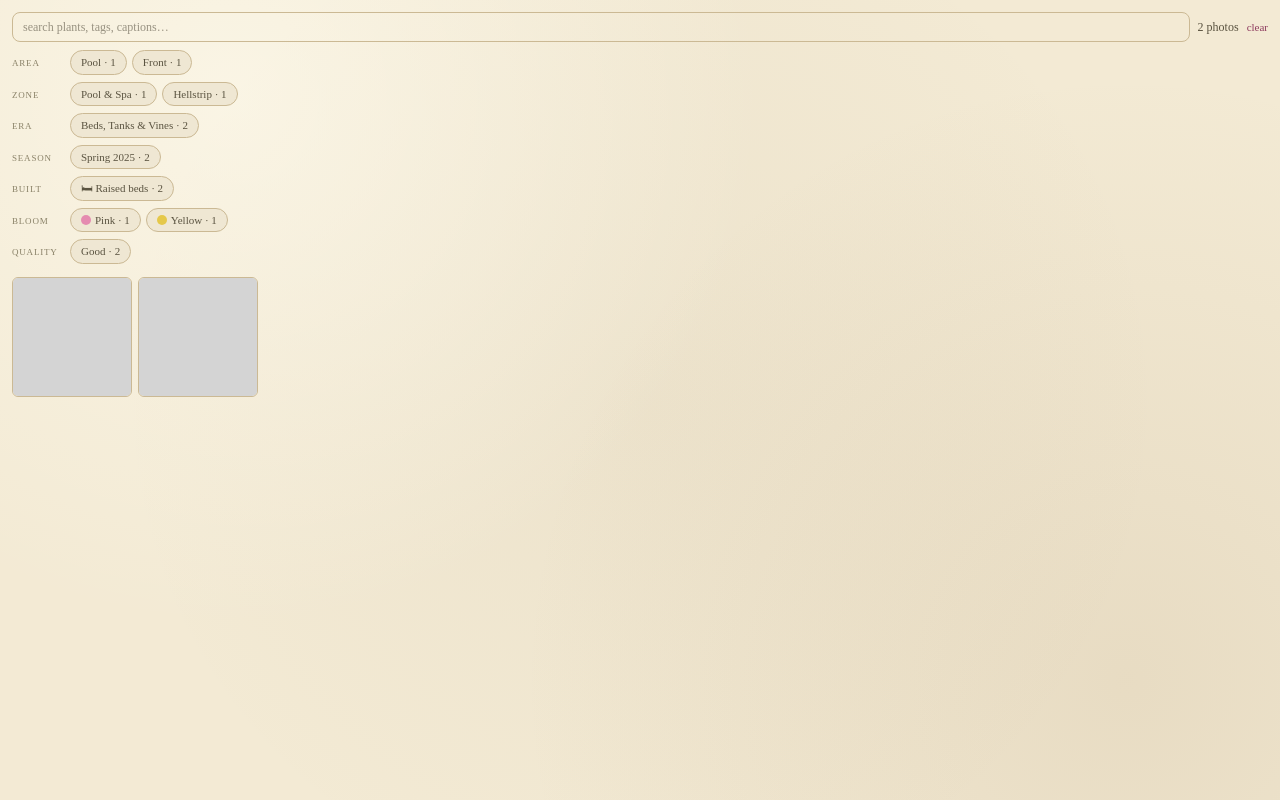
Test case: GalleryBrowser › clears filters
Click the button "Front · 1" at [162, 62], box [132,50,192,74]
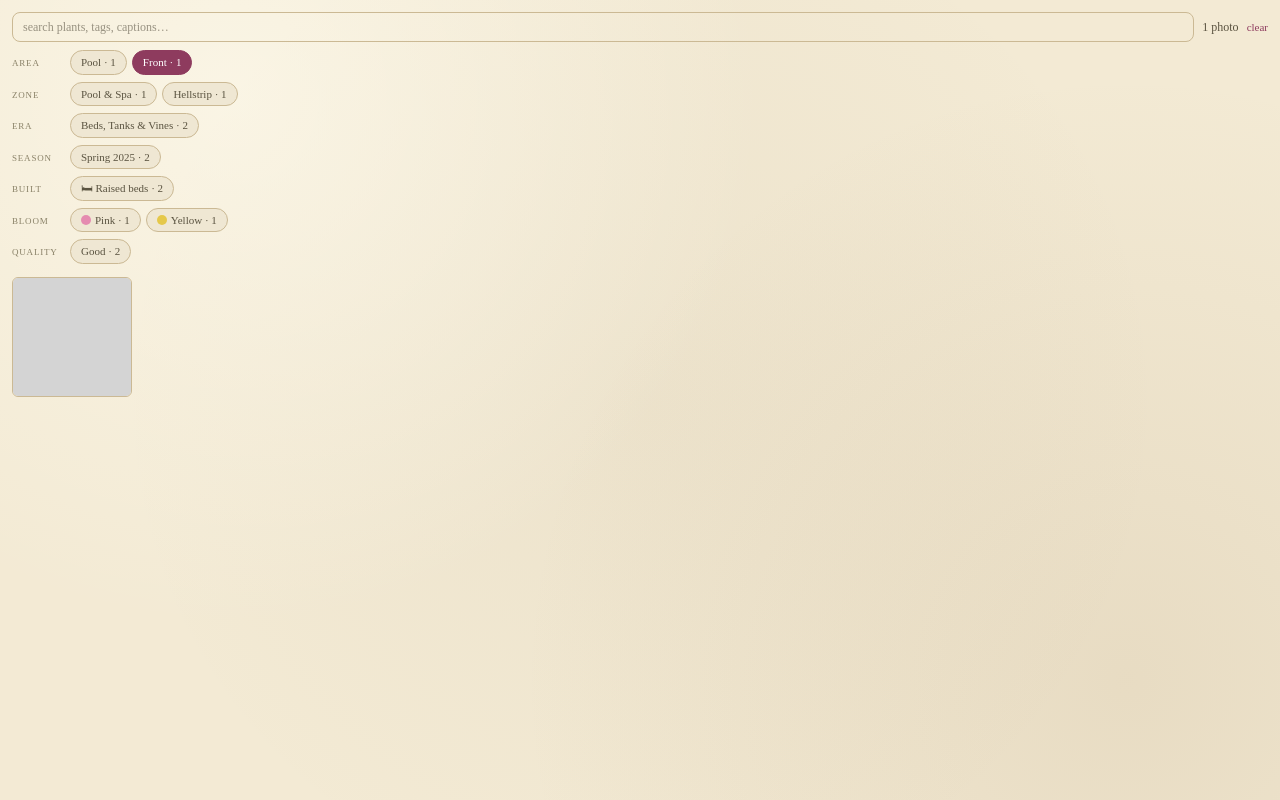
Click the button "clear" at [1257, 27], box [1247,19,1268,35]
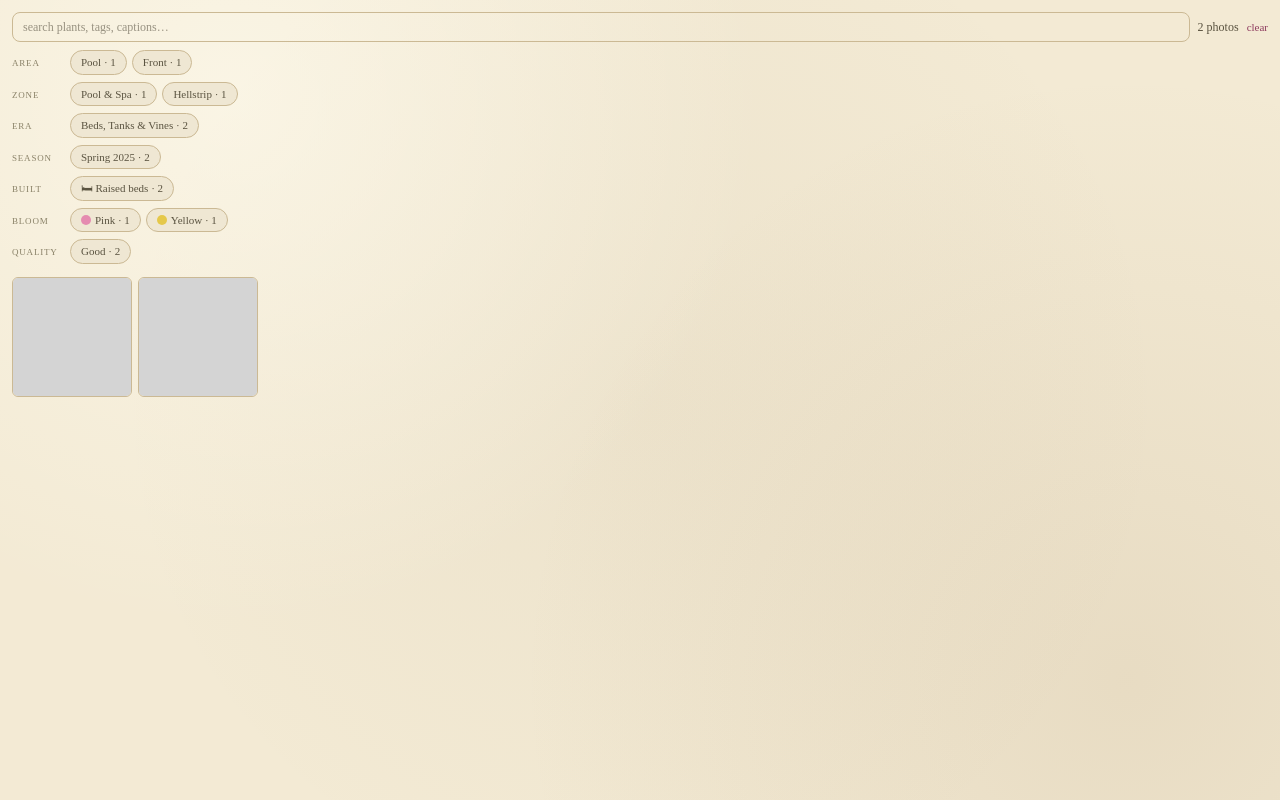
Check: the text "2 photos" is shown, box [1198,18,1239,36]
